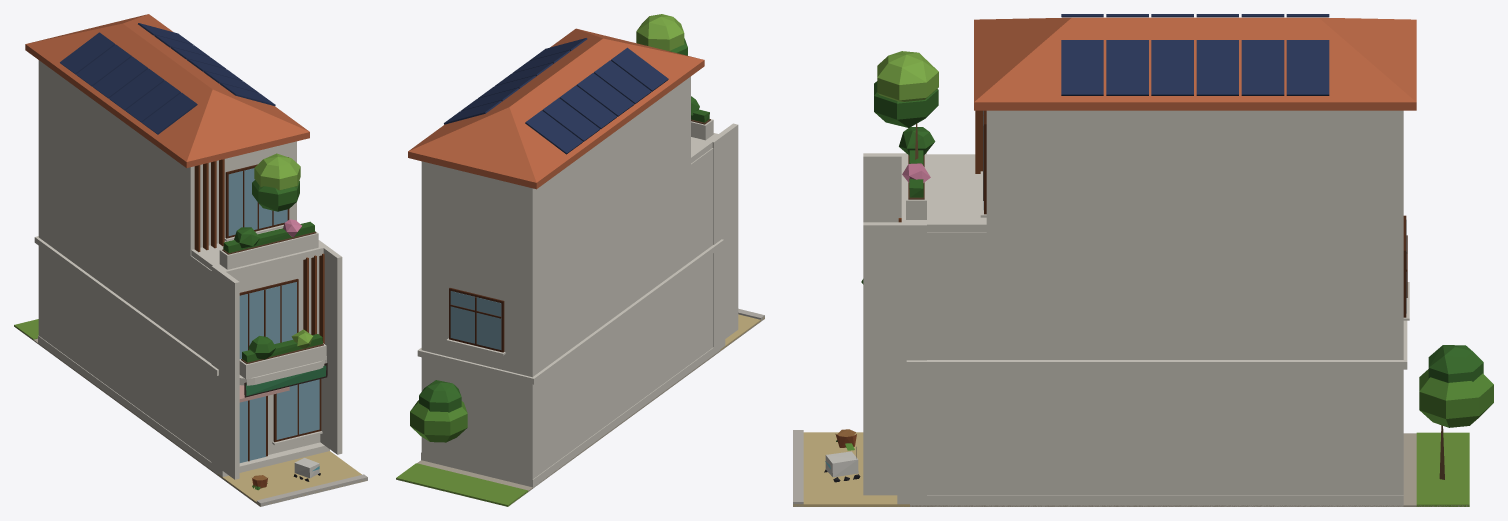
File: bay1_mid2.glb
3 renders of one model, left to right at view 1: azimuth 30°, elevation 25°; view 2: azimuth 150°, elevation 25°; view 3: azimuth 270°, elevation 25°, orthographic. The views are drawn at different scales.
Visible parts, largest first — view 1: body; view 2: body; view 3: body.
Part boxes in pixels (x1=…): body: x1=14, y1=14, x2=367, y2=506; body: x1=396, y1=14, x2=764, y2=506; body: x1=793, y1=14, x2=1493, y2=506.
Bounding box in the file's own units: 4.6 × 12.11 × 16.47.
